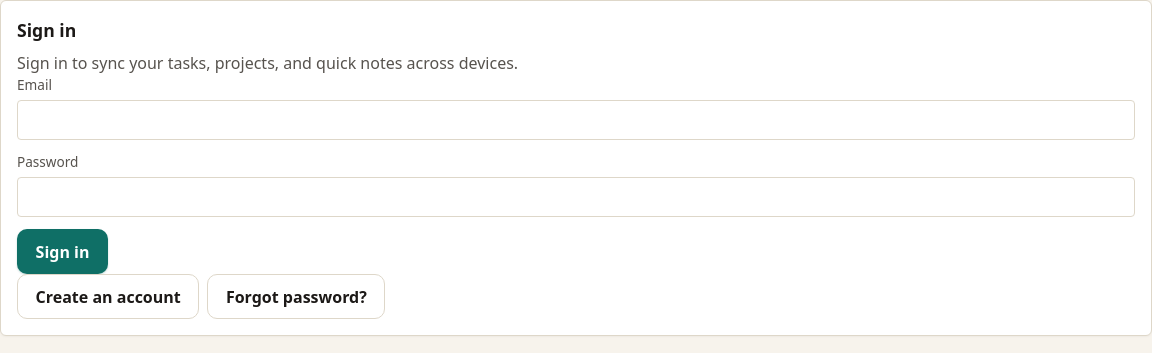
Scenario: AccountPanel › switches to create-account mode and back without colliding button labels
Click the button "Create an account" at [108, 297], box [17, 274, 199, 319]
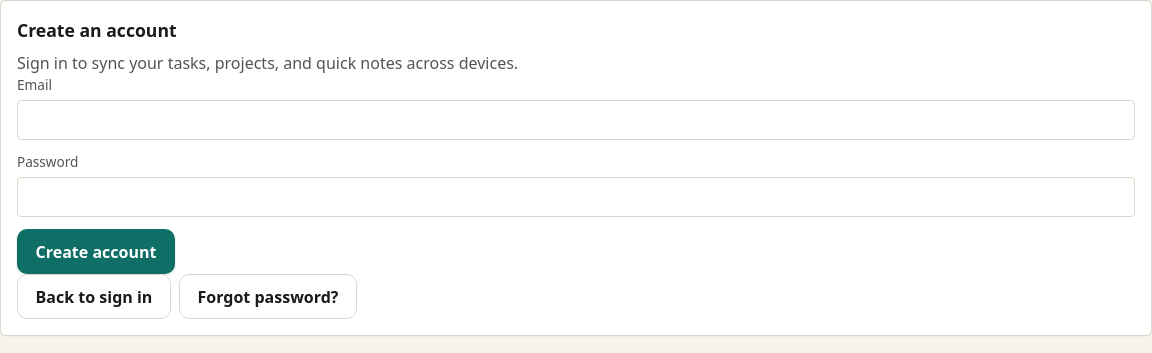
Expected: the password field labelled "Password" is shown, [17, 176, 1135, 217]
Expected: the button "Create account" is shown, [17, 229, 175, 274]
Click the button "Back to sign in" at [94, 297], box [17, 274, 171, 319]
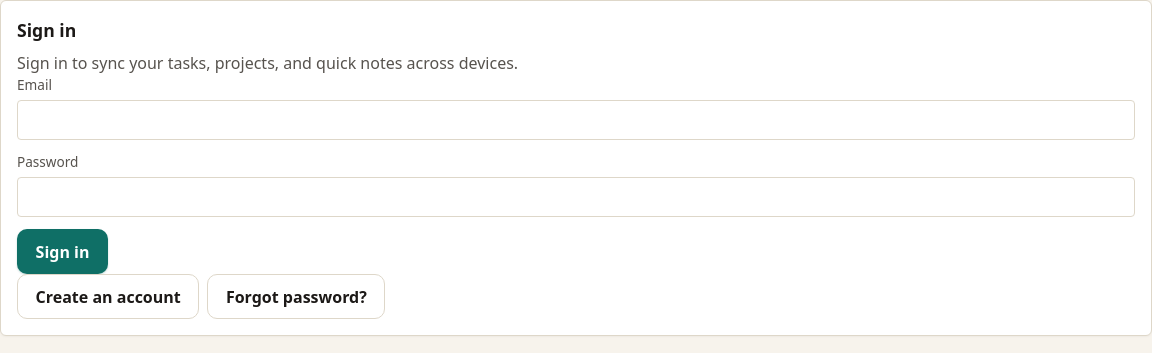
Expected: the button "Sign in" is shown, [17, 229, 108, 274]
